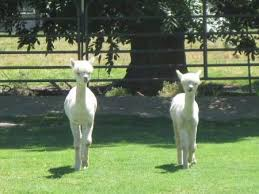alpaca: (64, 56, 98, 171), (169, 68, 202, 169)
